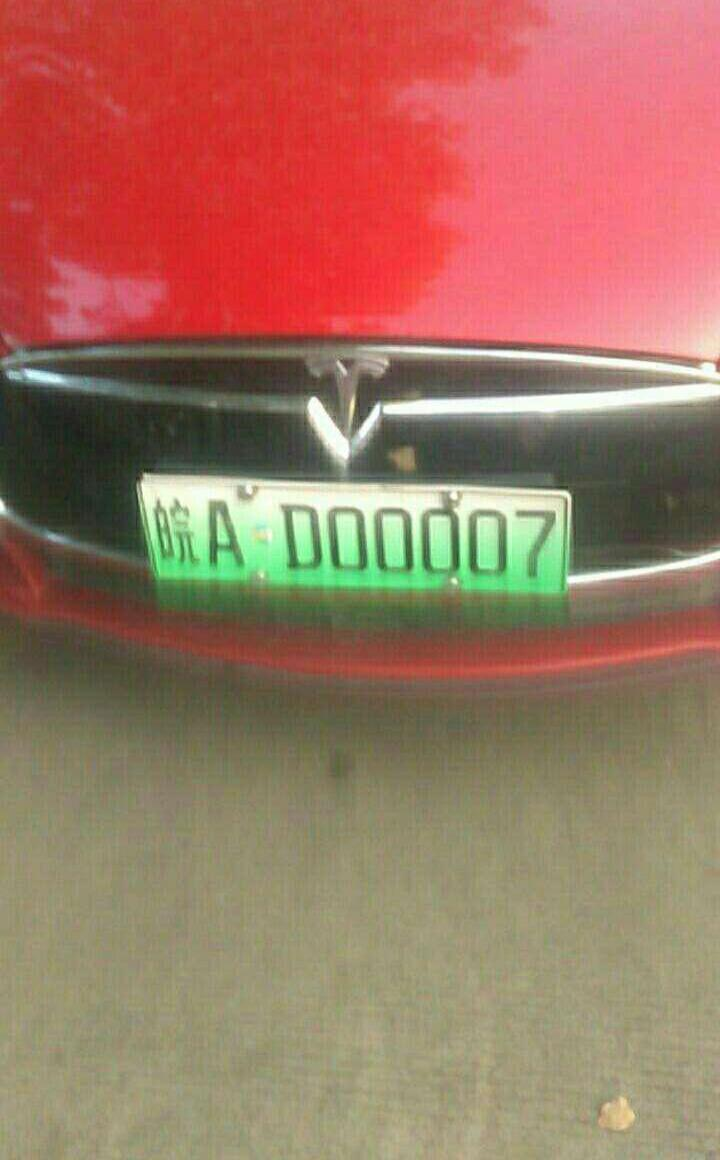car_id: (137, 478, 570, 590)
